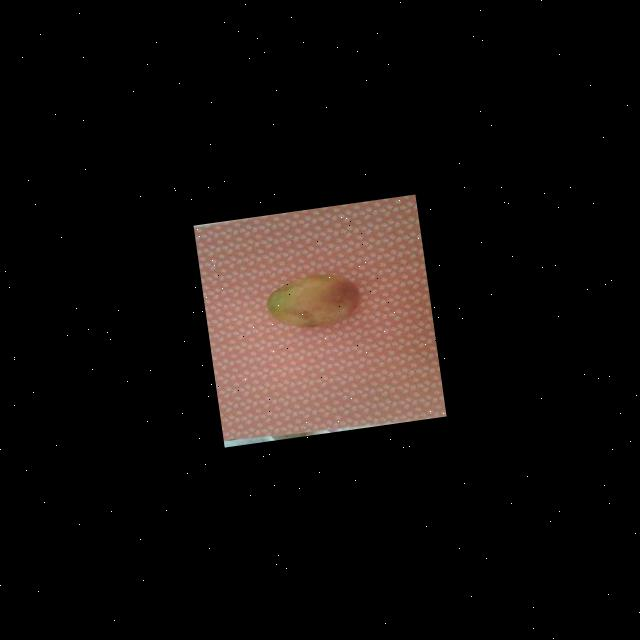Mango: (262, 268, 362, 332)
